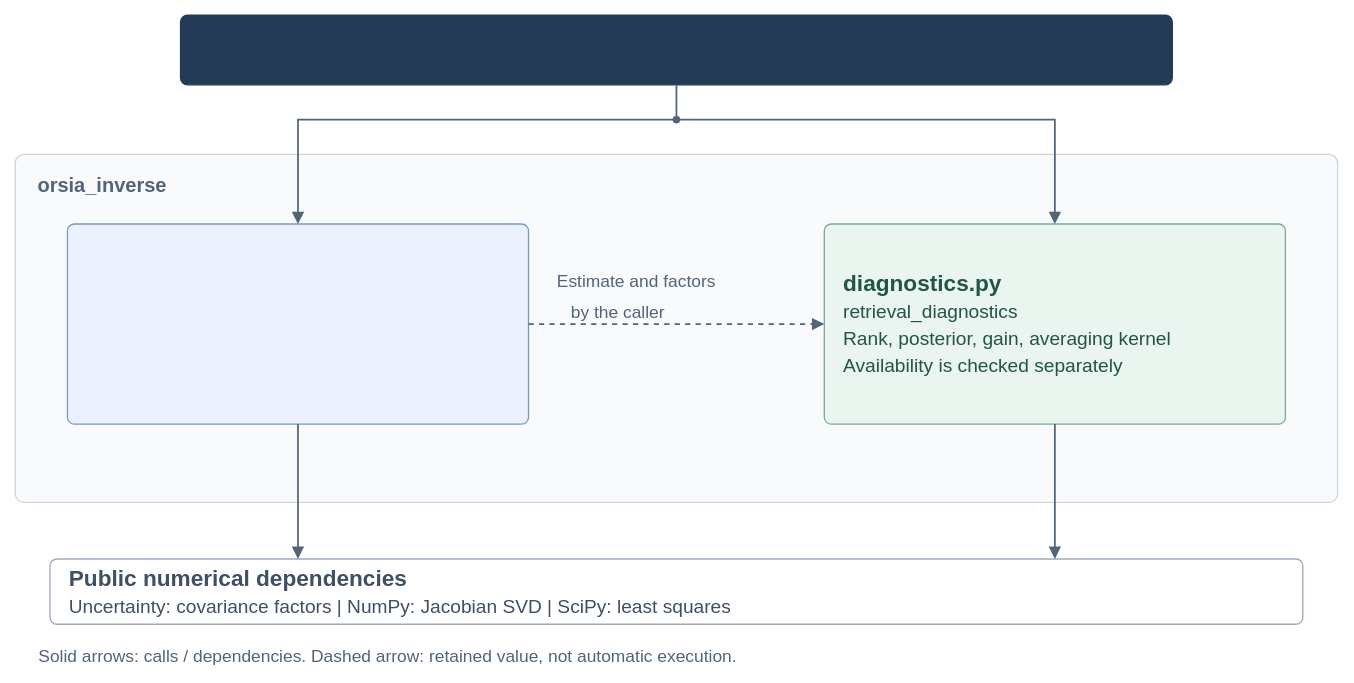
The diagram is 1354 pixels wide and 683 high, and some of its shapes have lost their labels. Here are the shapes that lost their labels. From the top down, the centre of each, then its label:
At (x=676, y=49): "Application fun + jac, observations, covariance factors and bounds".
At (x=297, y=323): "estimation.py solve_map Fixed-covariance Gaussian fit GaussianEstimate".
